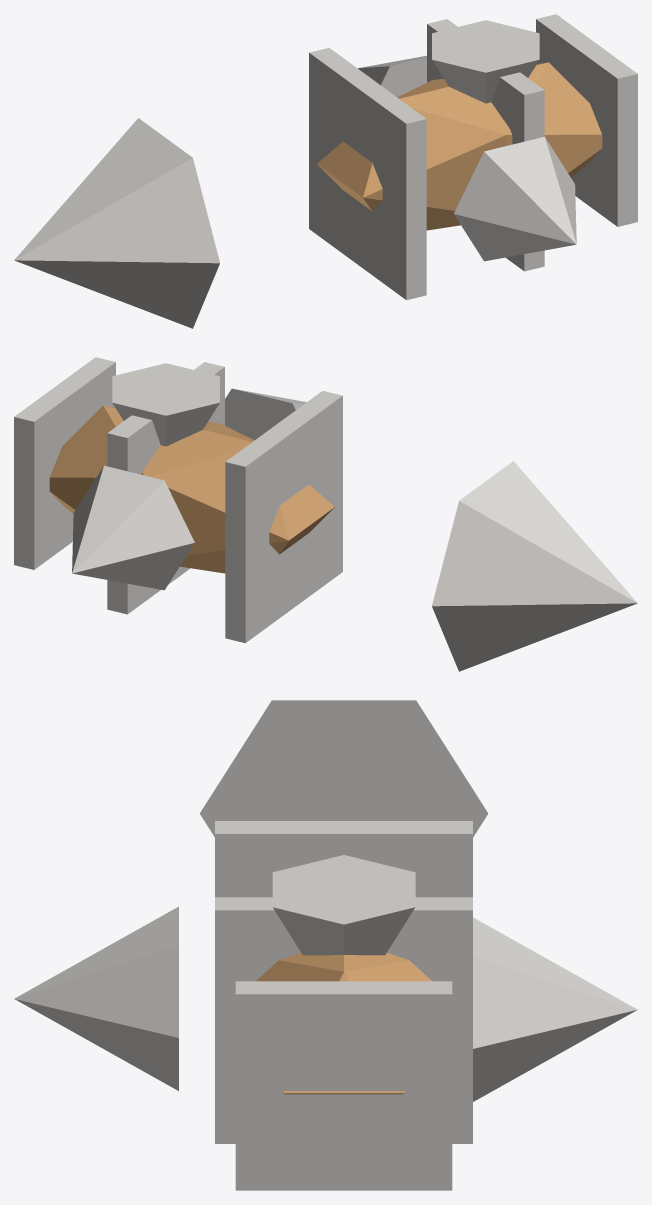
The model's file is clownfish.glb.
The picture shows the model from 3 angles, top to bottom: view 1: azimuth 30°, elevation 25°; view 2: azimuth 150°, elevation 25°; view 3: azimuth 270°, elevation 25°; orthographic projection. The views are drawn at different scales.
Visible parts, largest first — view 1: world; view 2: world; view 3: world.
Boxes of the visible parts, x1,y1,x2,y2 form: world: (14, 14, 637, 328); world: (14, 357, 637, 671); world: (14, 700, 637, 1190).
Bounding box in the file's own units: 1.73 × 0.53 × 1.21.
